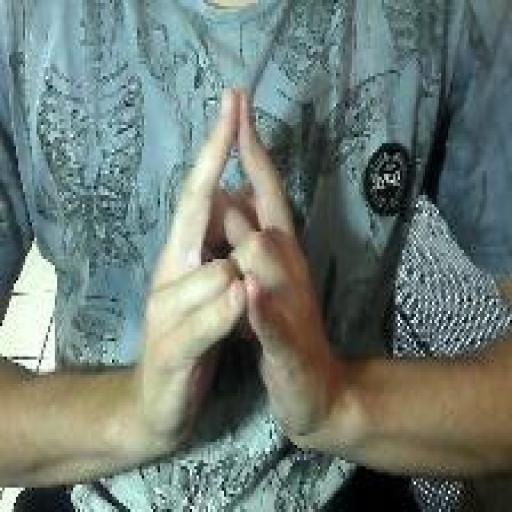Tori -bird-: (132, 80, 334, 456)
